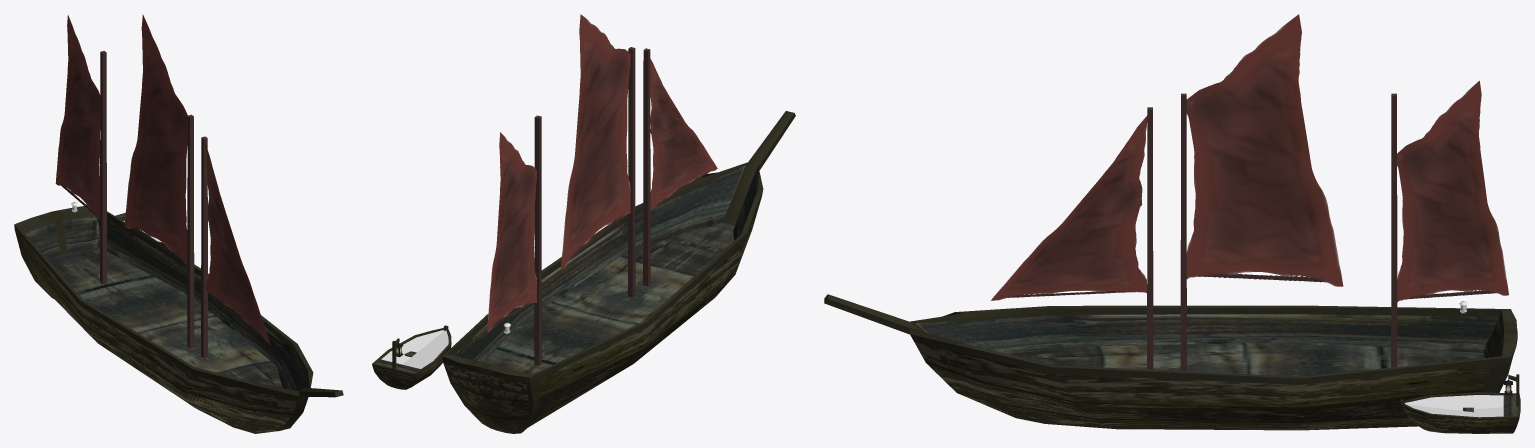
Rendered from boats.fbx.
The picture shows the model from 3 angles, left to right: view 1: azimuth 30°, elevation 25°; view 2: azimuth 150°, elevation 25°; view 3: azimuth 270°, elevation 25°; orthographic projection. The views are drawn at different scales.
Visible parts, largest first — view 1: Sails, FishingBoat0Hull, Deck; view 2: Sails, FishingBoat0Hull, Deck, Hull, WaterMask, Seats; view 3: Sails, FishingBoat0Hull, Deck, Hull, WaterMask.
Boxes of the visible parts, bbox=[...] form: Sails: bbox=[55, 15, 270, 358]; FishingBoat0Hull: bbox=[14, 206, 343, 433]; Deck: bbox=[48, 247, 282, 387]; Sails: bbox=[487, 14, 717, 365]; FishingBoat0Hull: bbox=[442, 111, 795, 433]; Deck: bbox=[484, 222, 735, 374]; Hull: bbox=[372, 325, 451, 389]; WaterMask: bbox=[381, 330, 448, 368]; Seats: bbox=[375, 338, 420, 373]; Sails: bbox=[991, 14, 1508, 371]; FishingBoat0Hull: bbox=[824, 294, 1517, 430]; Deck: bbox=[1023, 342, 1484, 376]; Hull: bbox=[1400, 392, 1520, 433]; WaterMask: bbox=[1405, 395, 1503, 417].
Size of the model in its own units: 886 by 1702 by 2652.
